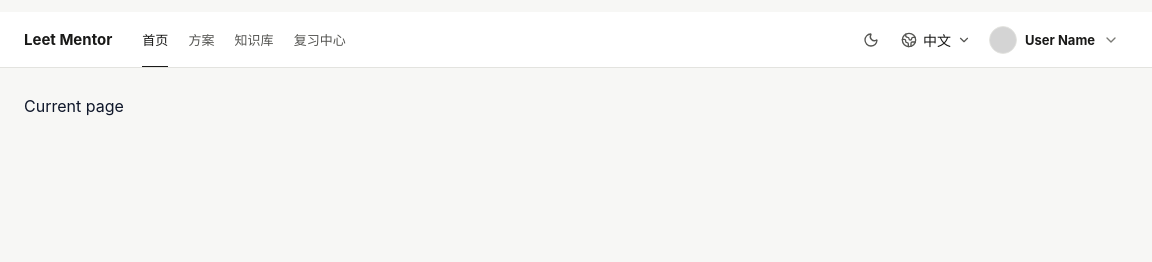
AppShell › disables logout button while logout is pending
This screenshot has width=1152, height=262.
Step 1. Click the button "User Name" → click(1056, 40), box [984, 20, 1128, 58]
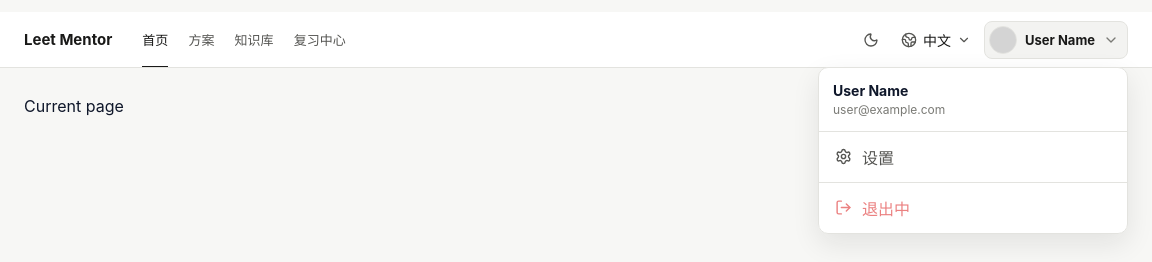
Check: the button "退出中" is disabled, box [825, 188, 1121, 226]
